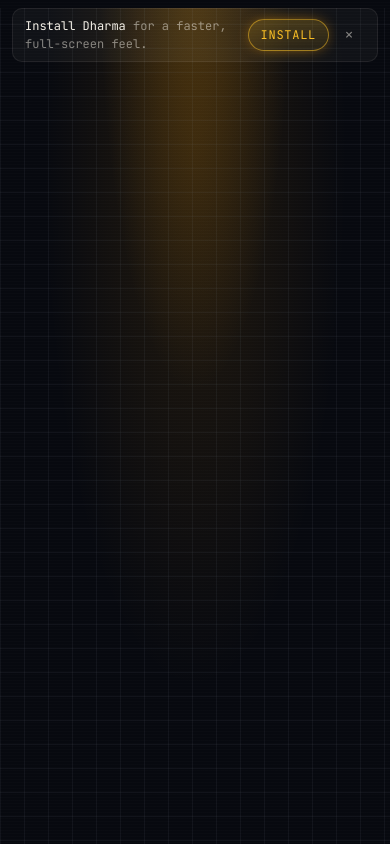
InstallPrompt › iOS path: shows pill without an event, install button opens how-to overlay
The width and height of the screenshot is (390, 844).
Check: the element with test id "install-prompt" is shown, box [12,8,378,62]
Click the button with test id "install-prompt-install" at (288, 35), box [248,19,329,51]
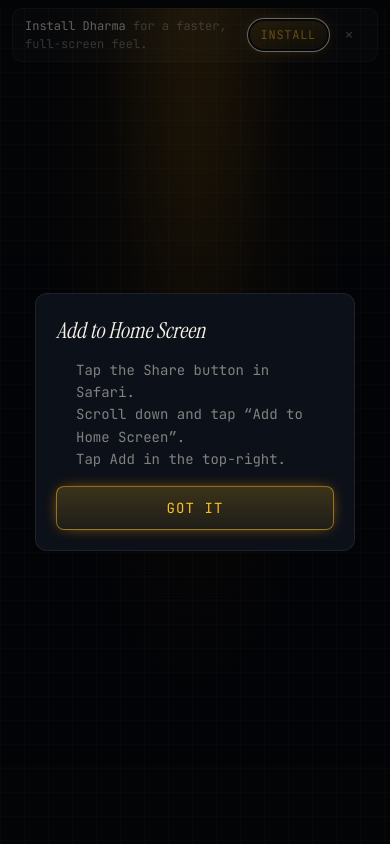
Check: the dialog with test id "install-prompt-ios-howto" is shown
Check: the heading "Add to Home Screen" is shown, box [56,316,205,344]
